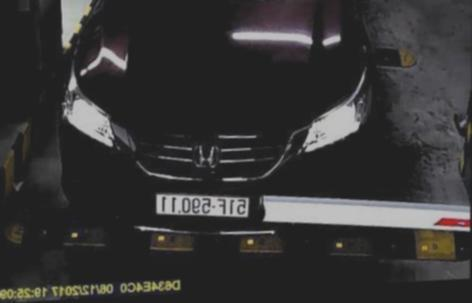License_Plate: (152, 187, 252, 227)
